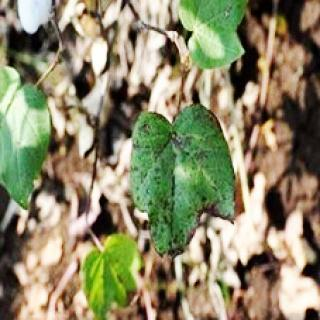leaf spot: (125, 101, 242, 261)
